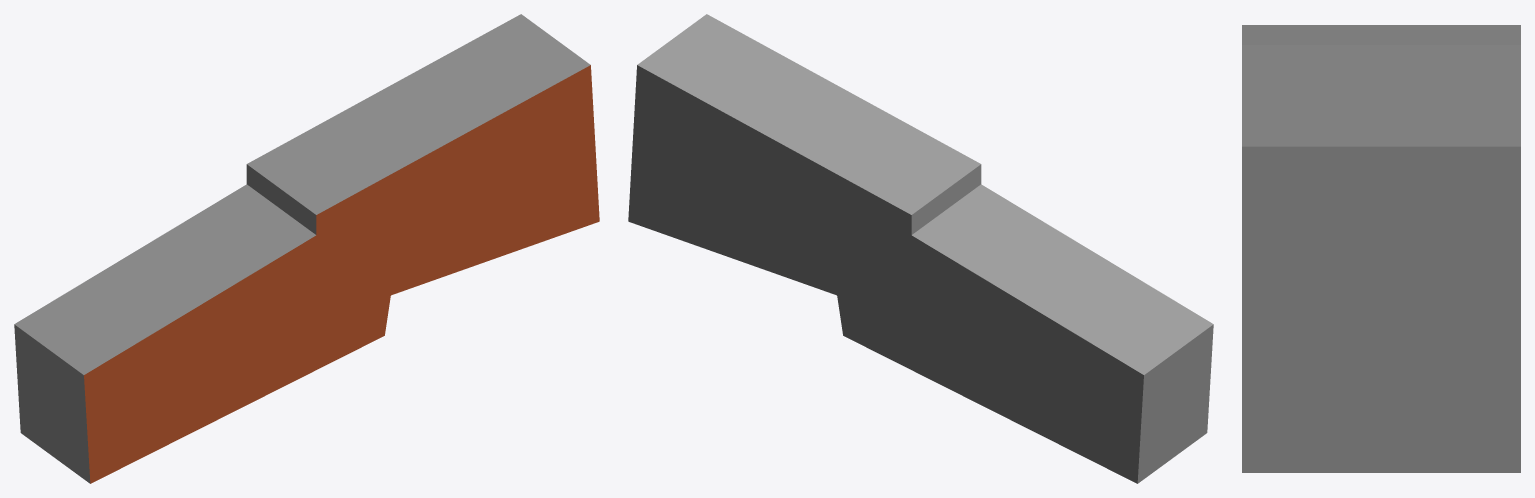
File: construction_5724_assumed_A_Casa_h6m.obj
3 views of the same model, side by side, from view 1: azimuth 30°, elevation 25°; view 2: azimuth 150°, elevation 25°; view 3: azimuth 270°, elevation 25° (orthographic). The views are drawn at different scales.
Visible parts, largest first — view 1: construction_5724_assumed_A_Casa; view 2: construction_5724_assumed_A_Casa; view 3: construction_5724_assumed_A_Casa.
Part boxes in pixels (bbox=[...]): construction_5724_assumed_A_Casa: bbox=[14, 14, 599, 483]; construction_5724_assumed_A_Casa: bbox=[628, 14, 1213, 483]; construction_5724_assumed_A_Casa: bbox=[1242, 25, 1520, 472].
Bounding box in the file's own units: 25.64 × 14.1 × 6.
